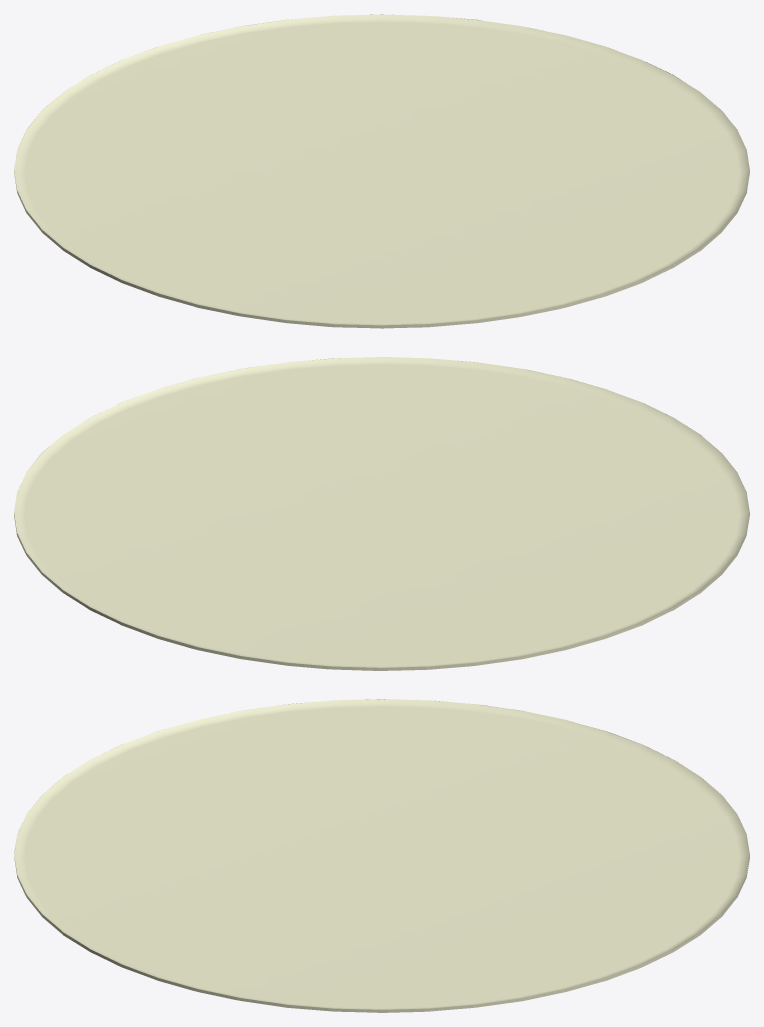
File: original_16.obj
3 renders of one model, top to bottom at view 1: azimuth 30°, elevation 25°; view 2: azimuth 150°, elevation 25°; view 3: azimuth 270°, elevation 25°, orthographic.
Visible parts, largest first — view 1: #ID2478; view 2: #ID2478; view 3: #ID2478.
Boxes of the visible parts, left/top/right/bottom form: #ID2478: left=14, top=14, right=749, bottom=328; #ID2478: left=14, top=357, right=749, bottom=670; #ID2478: left=14, top=699, right=749, bottom=1012.
Bounding box in the file's own units: 0.607 × 0.00305 × 0.6071.
